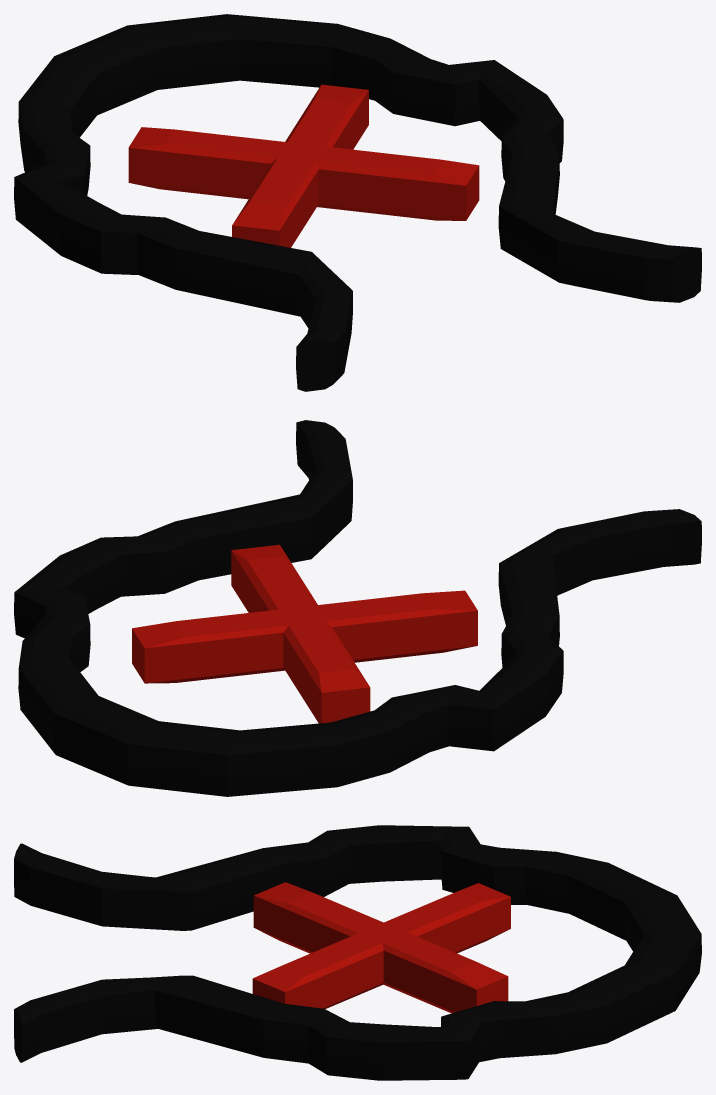
File: head_model_avoid.gltf
The picture shows the model from 3 angles, top to bottom: view 1: azimuth 30°, elevation 25°; view 2: azimuth 150°, elevation 25°; view 3: azimuth 270°, elevation 25°; orthographic projection. The views are drawn at different scales.
Parts seen in each view (by area): view 1: Torus.001, Cube; view 2: Torus.001, Cube; view 3: Torus.001, Cube.
Part boxes in pixels (x1,y1,x2,y2): Torus.001: (14, 14, 701, 391); Cube: (128, 84, 479, 247); Torus.001: (14, 420, 701, 796); Cube: (132, 544, 477, 723); Torus.001: (14, 825, 701, 1080); Cube: (252, 882, 510, 1013).
Bounding box in the file's own units: 1.78 × 0.1732 × 2.38.
